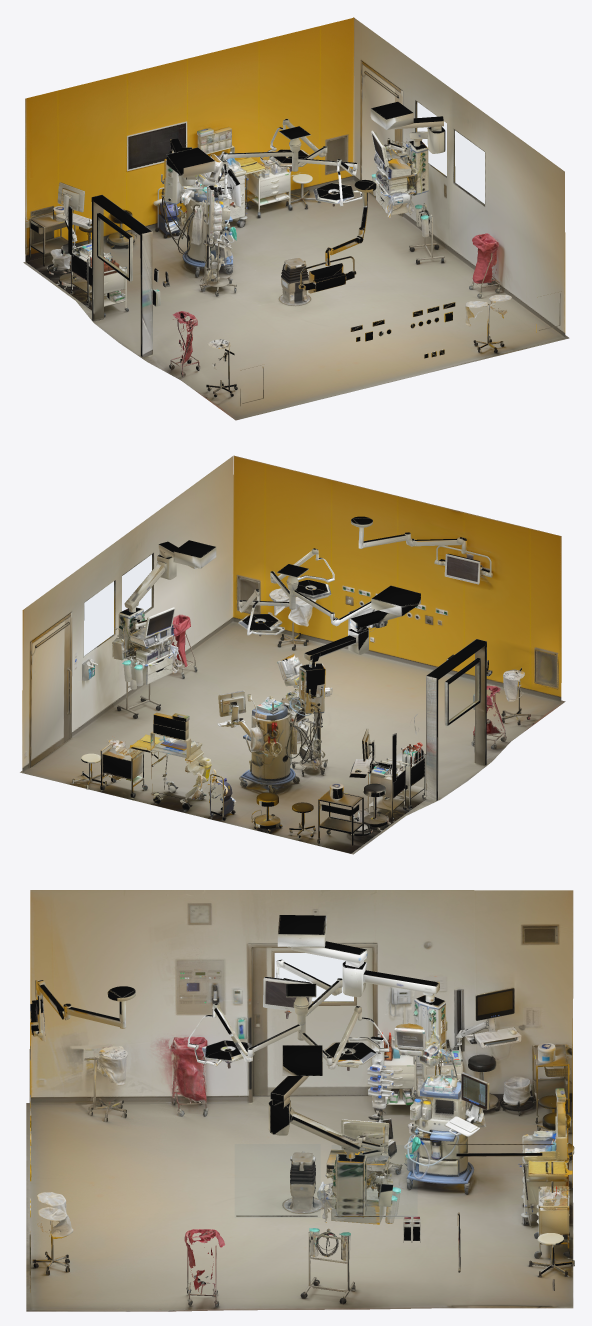
The model's file is charite_university_hospital_-_operating_room.glb.
3 renders of one model, top to bottom at view 1: azimuth 30°, elevation 25°; view 2: azimuth 150°, elevation 25°; view 3: azimuth 270°, elevation 25°, orthographic. The views are drawn at different scales.
Parts seen in each view (by area): view 1: OP_Mitte; view 2: OP_Mitte; view 3: OP_Mitte.
Boxes of the visible parts, left/top/right/bottom form: OP_Mitte: left=23, top=17, right=569, bottom=420; OP_Mitte: left=20, top=455, right=565, bottom=854; OP_Mitte: left=26, top=890, right=574, bottom=1311.
Size of the model in its own units: 5.99 by 2.78 by 6.53.
5 materials, 4 textured.
